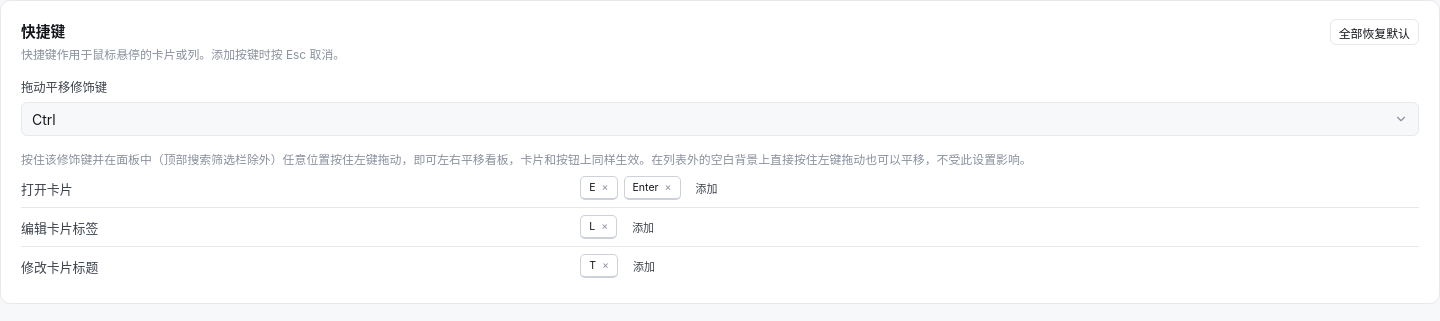
Test: ShortcutSection › 添加不冲突的按键时保存该操作的全部按键，并立即显示
Click the button "添加" in the row of "修改卡片标题" at coordinates (644, 266), box [624,253,664,279]
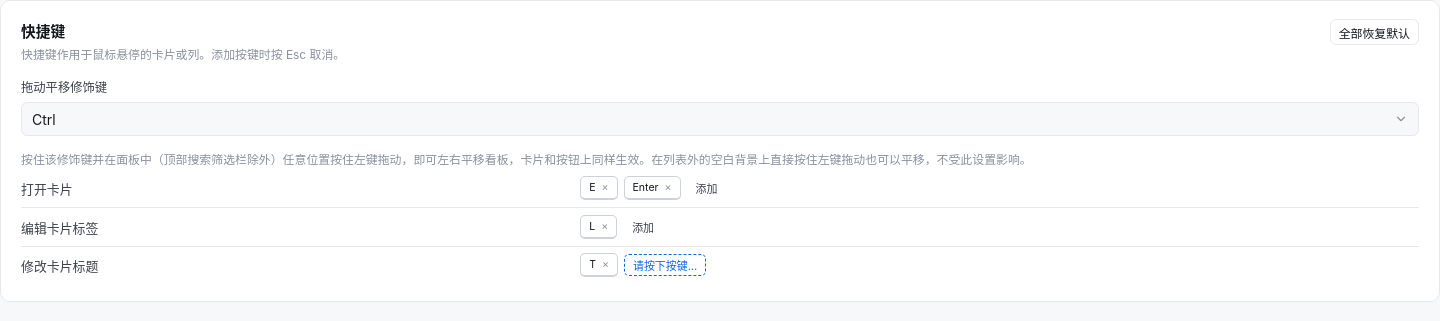
Press KeyR
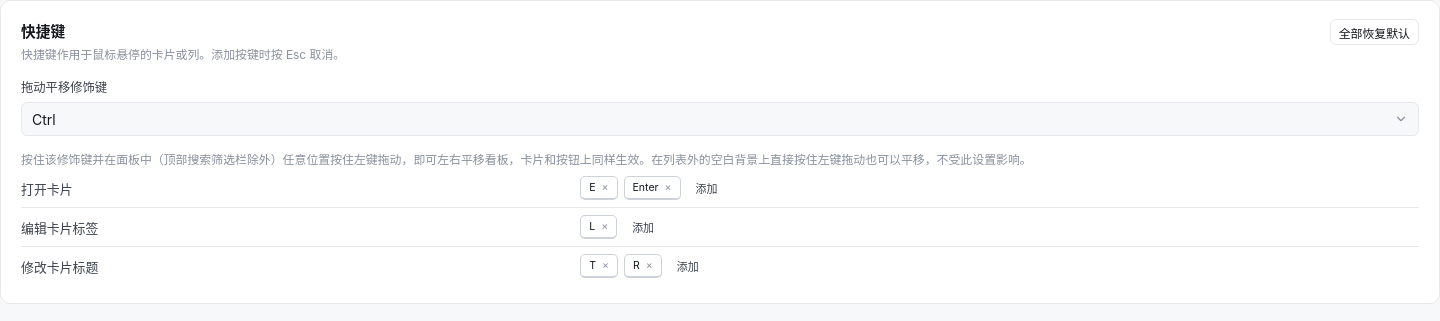
Expected: the text "R" is shown, [633,259,640,272]
